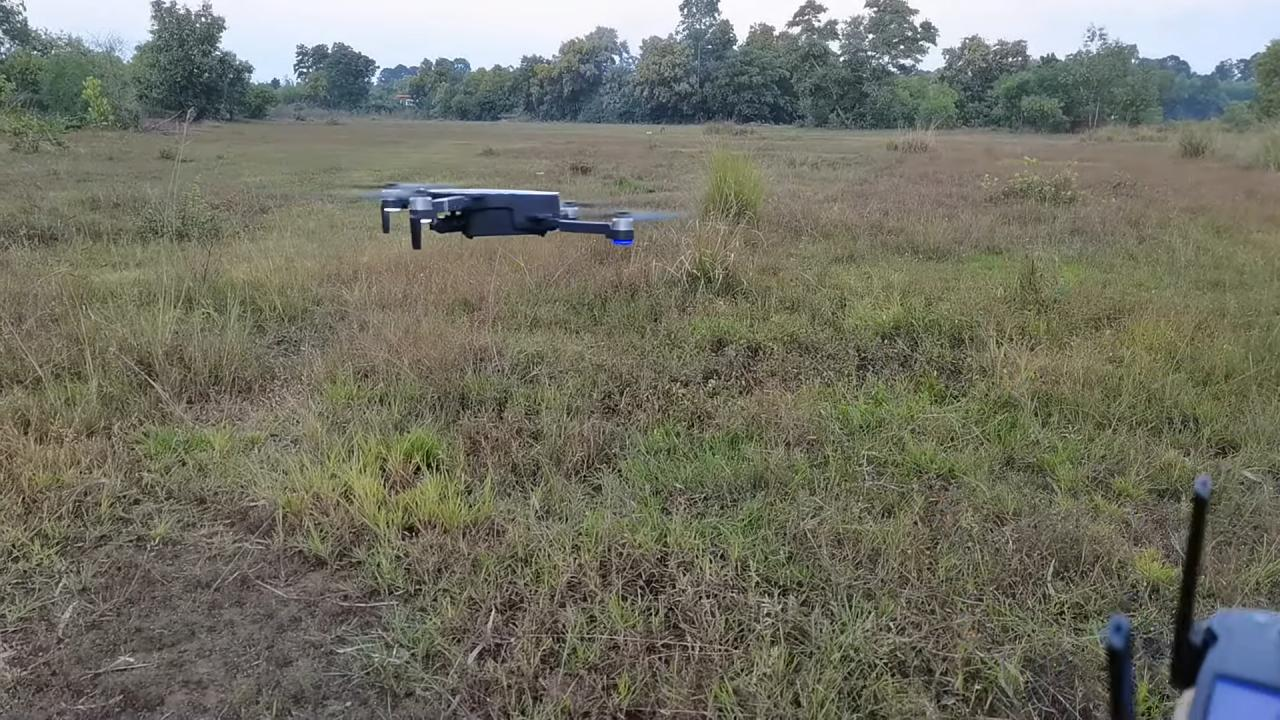Drone: (315, 151, 711, 271)
